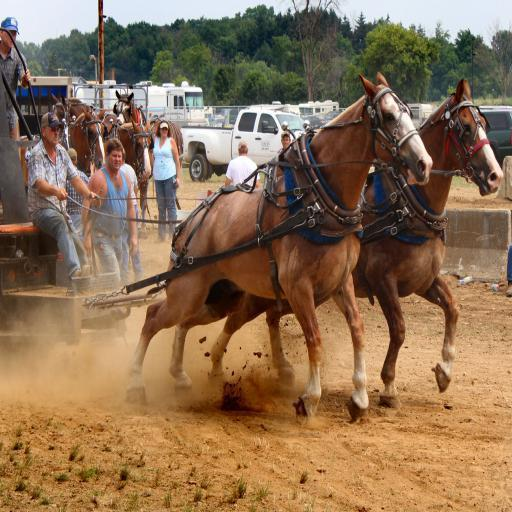horse: (123, 69, 433, 421), (208, 75, 504, 411), (118, 118, 184, 238), (60, 106, 107, 174), (48, 90, 98, 140), (110, 90, 148, 128)
